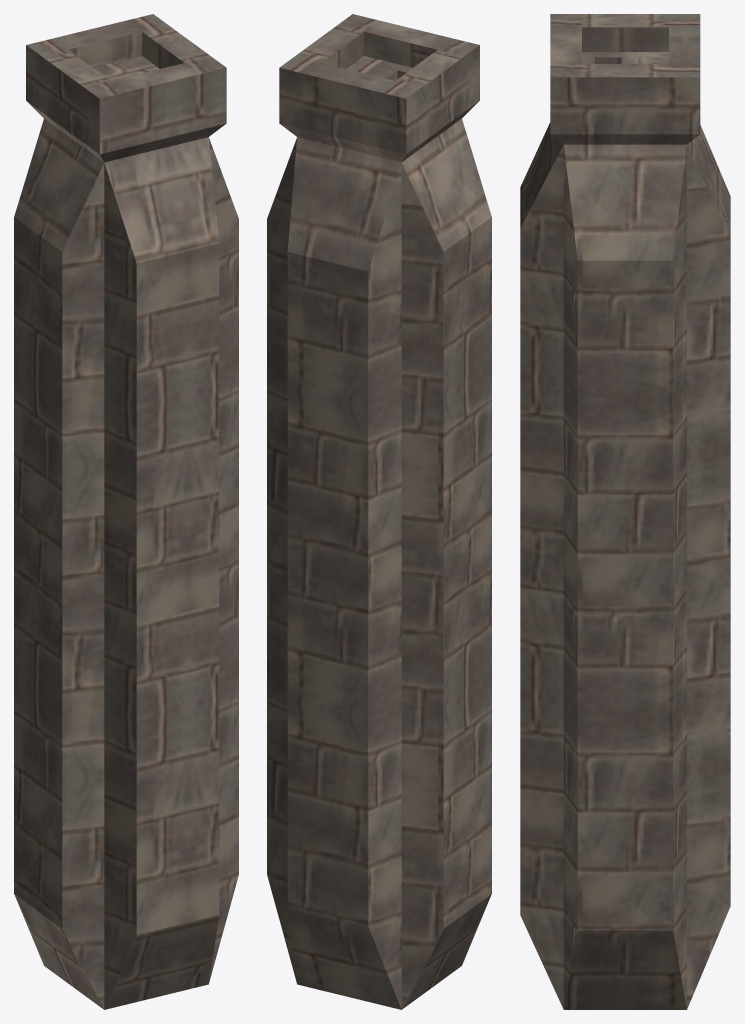
File: Dwarf Tower.obj
3 views of the same model, side by side, from view 1: azimuth 30°, elevation 25°; view 2: azimuth 150°, elevation 25°; view 3: azimuth 270°, elevation 25° (orthographic). The views are drawn at different scales.
Visible parts, largest first — view 1: Plane; view 2: Plane; view 3: Plane.
Part boxes in pixels (bbox=[...]): Plane: bbox=[14, 14, 238, 1009]; Plane: bbox=[267, 14, 491, 1009]; Plane: bbox=[520, 14, 730, 1009].
Bounding box in the file's own units: 0.233 × 1.15 × 0.2347.
1 material, 1 textured.
